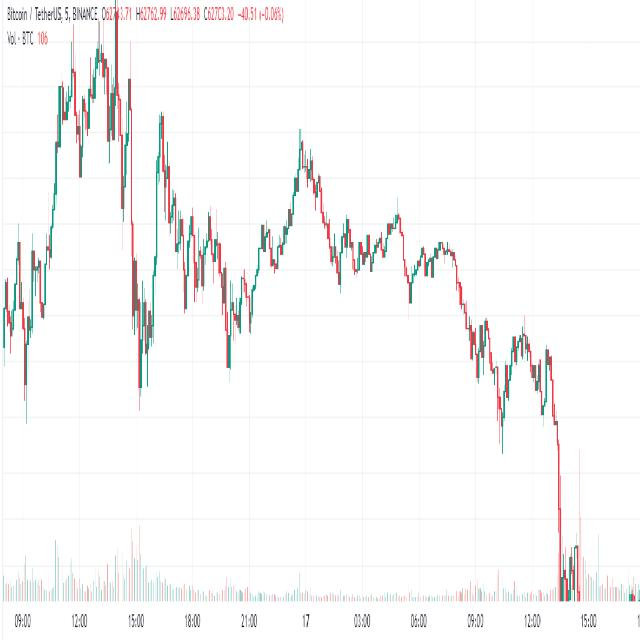Inverse-Head-Shoulders: (128, 172, 159, 407), (484, 315, 516, 456)
